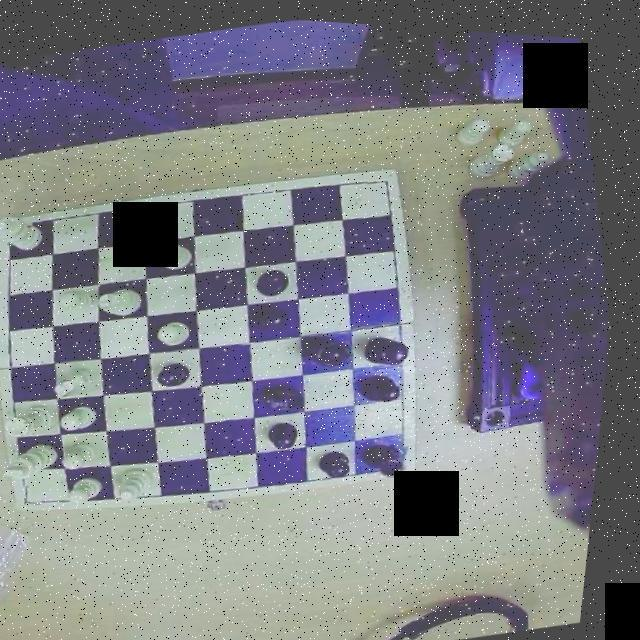chess-table-corners: (385, 432, 427, 473), (364, 162, 404, 202), (1, 210, 42, 248), (20, 478, 60, 513)
